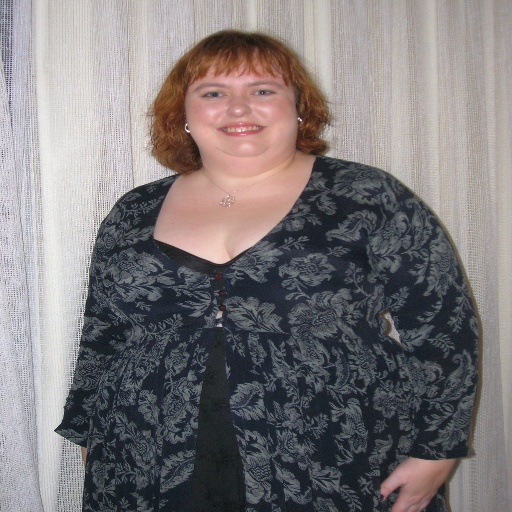hand: (385, 456, 465, 508)
